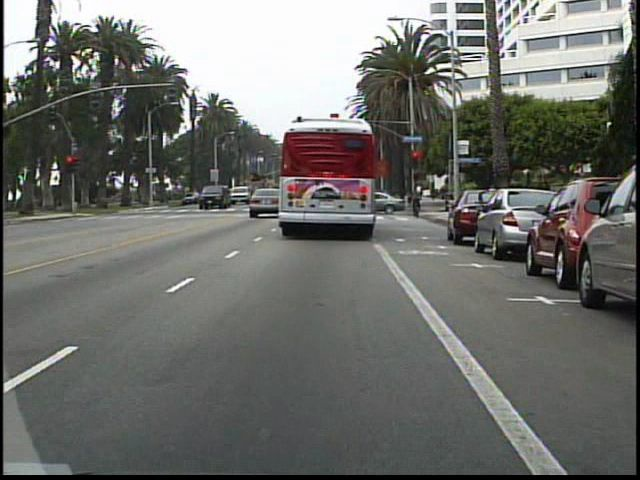person: (404, 183, 424, 216)
